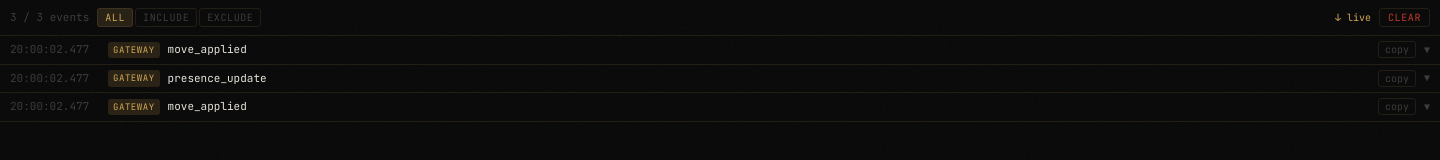
Test: WsDevtools › exclude filter hides matching events
Click the button with test id "filter-mode-exclude" at (230, 18), box [199,8,262,27]
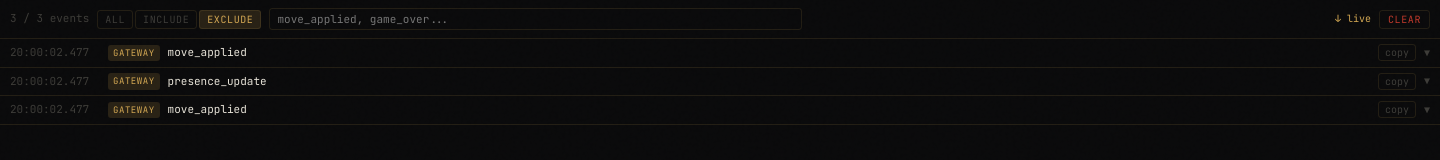
Type "presence_update" into the field with test id "filter-input" at (536, 19), box [270,8,802,30]
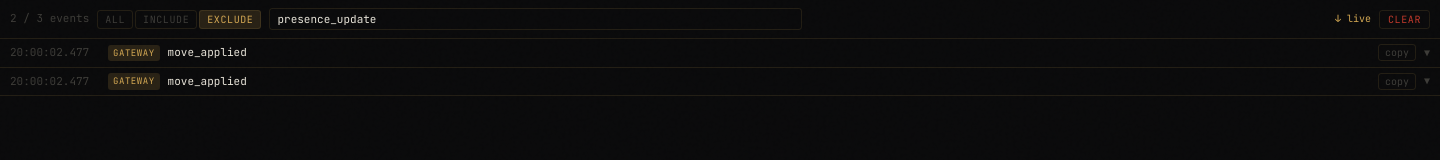
Check: the 1st element with test id "event-row" does not show "presence_update", box [0,39,1439,68]
Check: the number of elements with test id "event-row" is 2, box [0,39,1439,68]; [0,68,1439,96]
Check: the 2nd element with test id "event-row" no longer shows "presence_update", box [0,68,1439,96]
